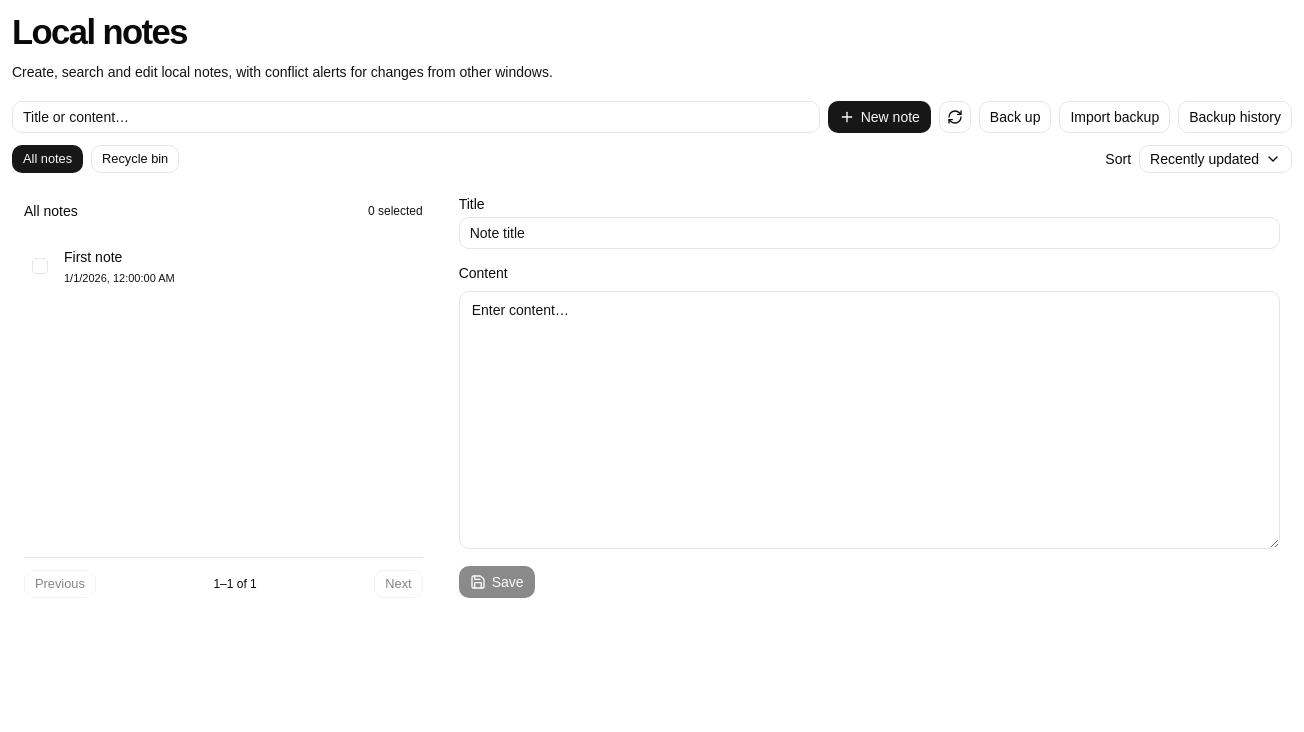
native note editor › creates and updates notes using the returned version while deduplicating submissions
Type "Created" into the field labelled "Title" at (869, 233), box [459,217,1280,249]
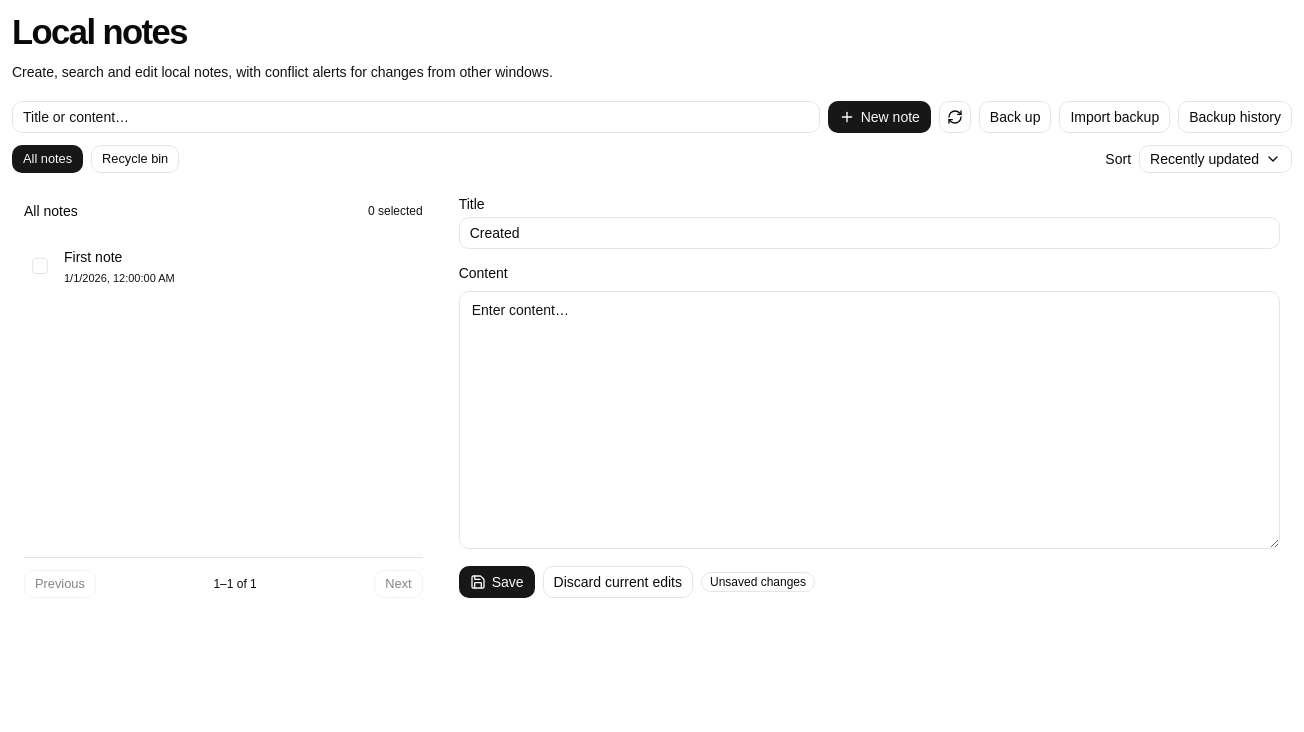
Type "Draft body" into the text box labelled "Content" at (869, 420), box [459,291,1280,549]
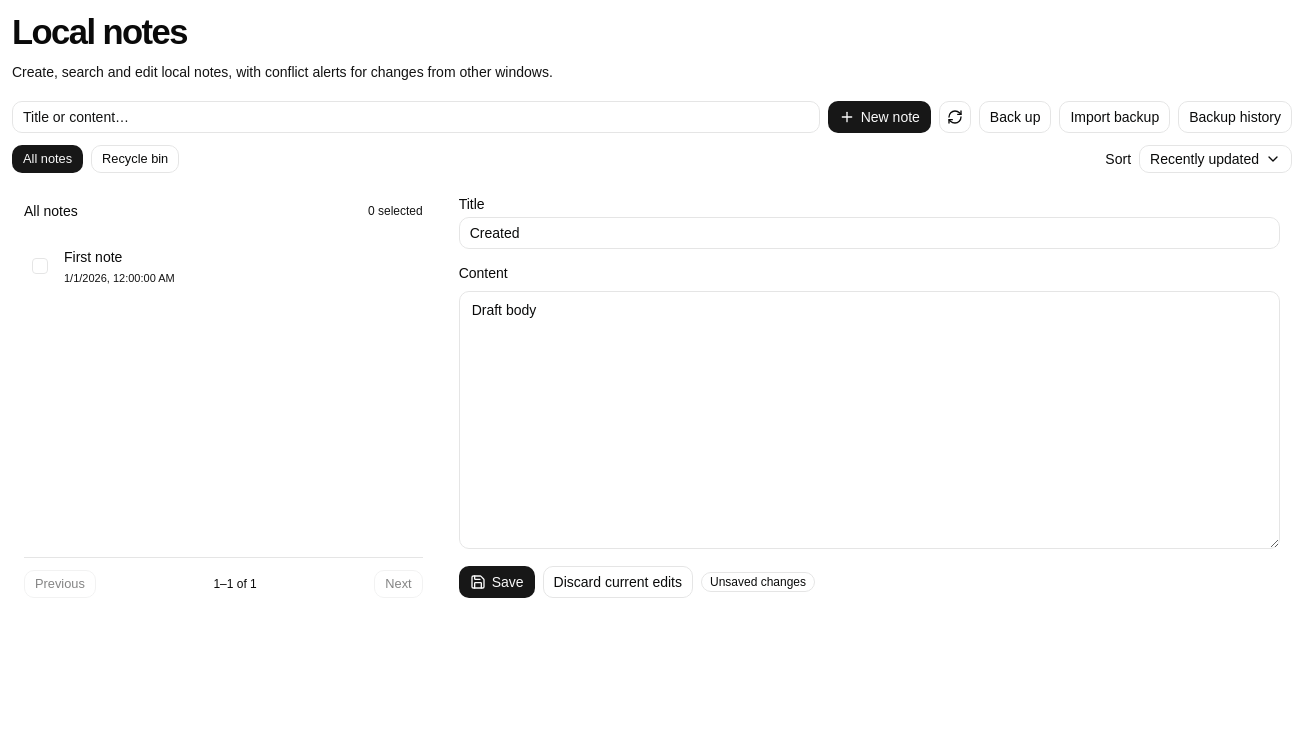
Submit the form "Title", box [459,197,1280,598]
Submit the form "Title", box [459,197,1280,598]
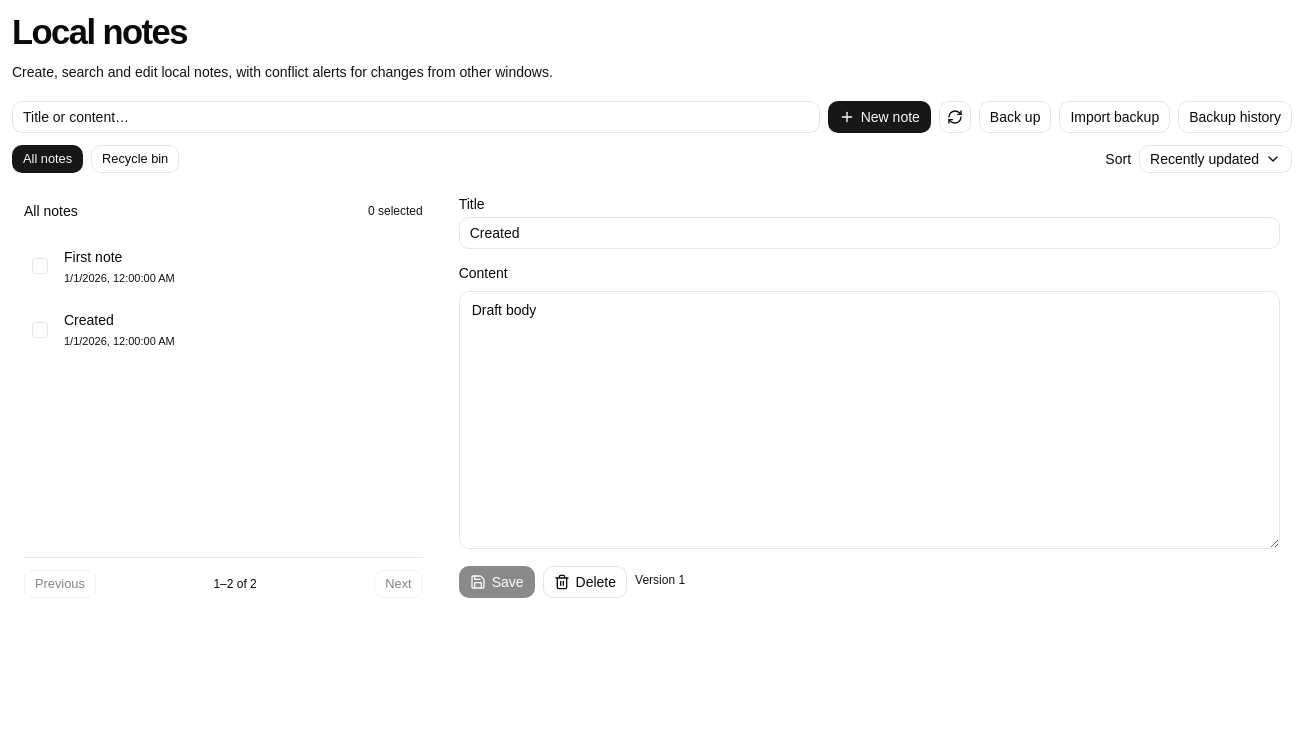
expect the text "Unsaved changes" is gone: met
Replace the text in the text box labelled "Content" with "Updated body" at (869, 420), box [459,291,1280,549]
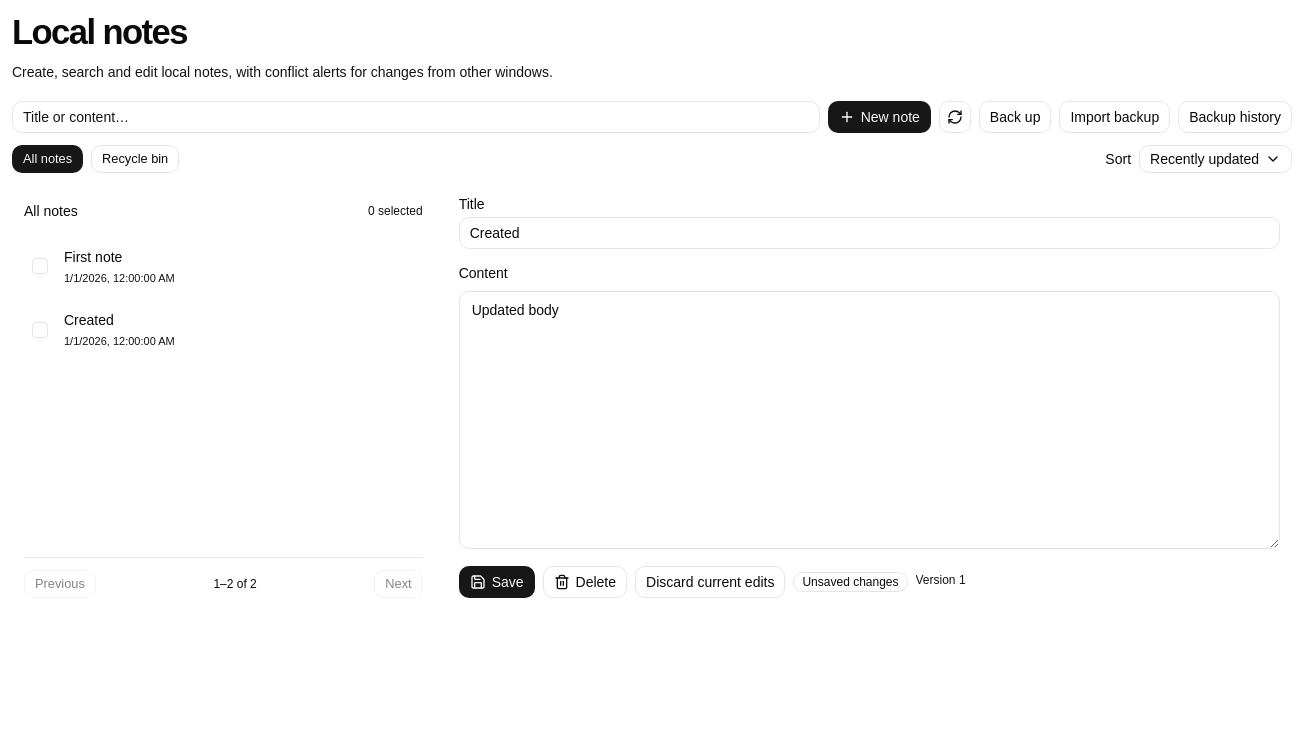
Submit the form "Title", box [459,197,1280,598]
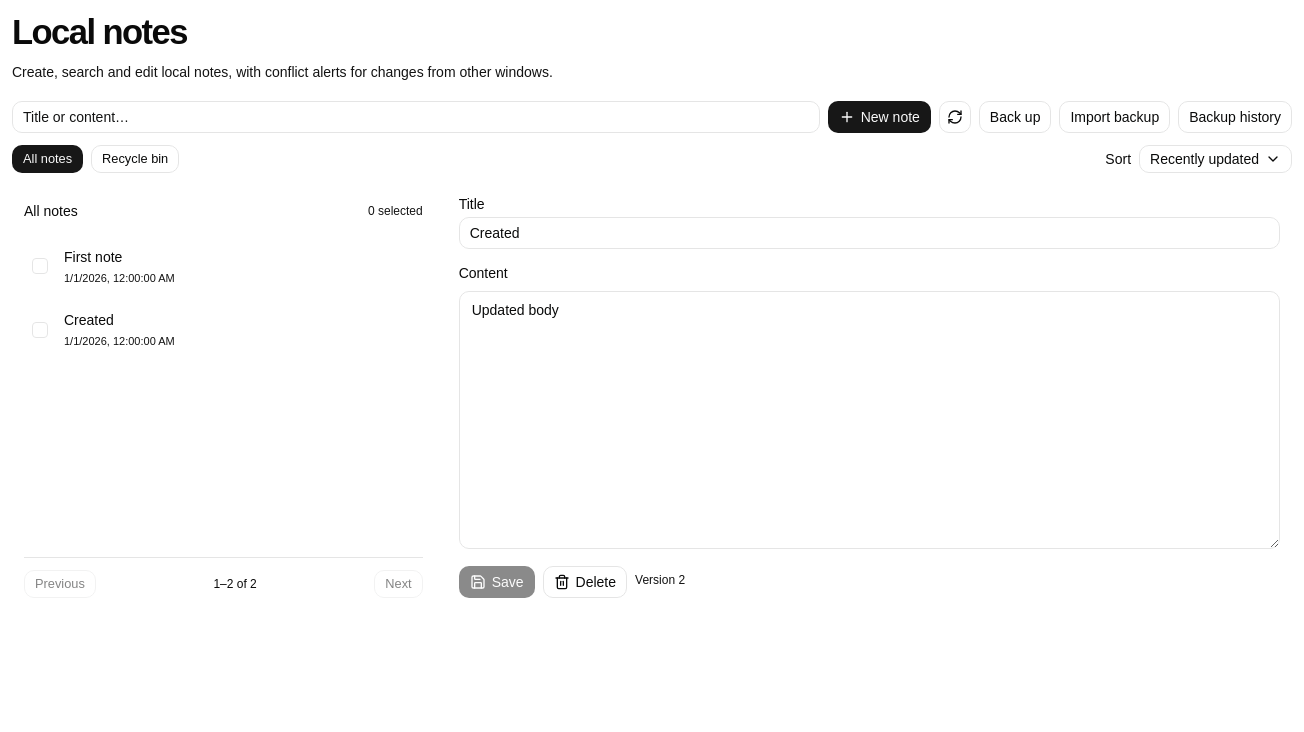
expect the text "Unsaved changes" is gone: met
